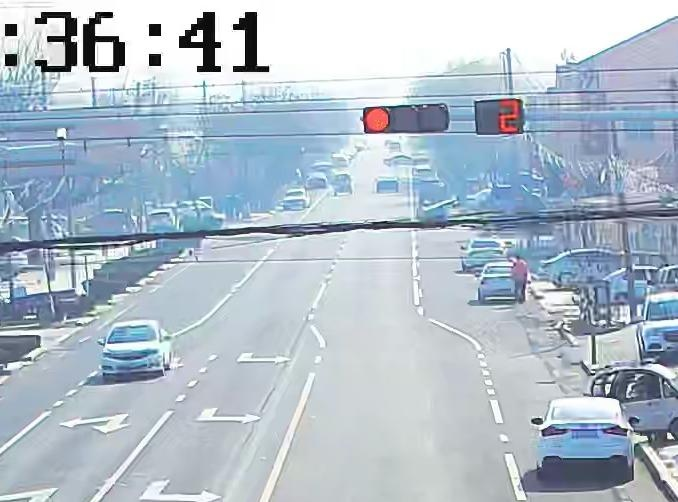red: (363, 106, 391, 133)
redtime: (496, 100, 524, 133)
